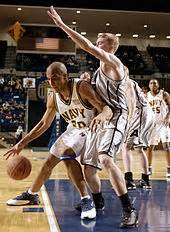basketball: (5, 154, 31, 180)
